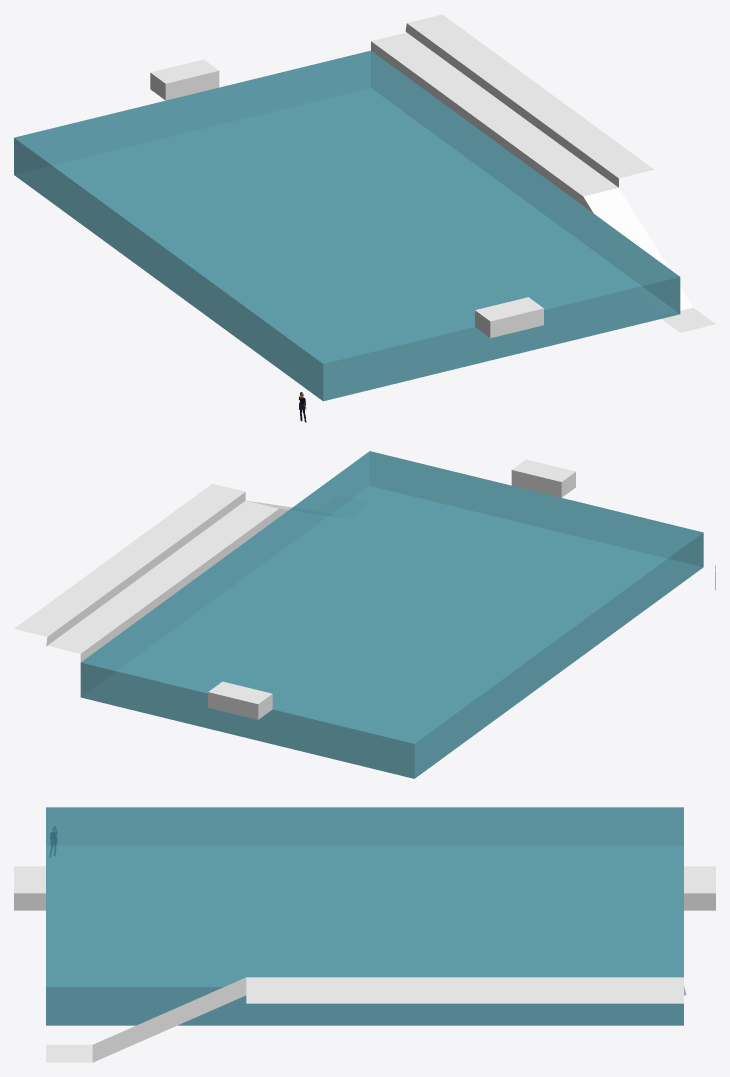
The picture shows the model from 3 angles, top to bottom: view 1: azimuth 30°, elevation 25°; view 2: azimuth 150°, elevation 25°; view 3: azimuth 270°, elevation 25°; orthographic projection. The views are drawn at different scales.
Visible parts, largest first — view 1: Mesh3 Group3 Model, Mesh5 Model, Mesh2 Group2 Model, Mesh1 Group1 Model; view 2: Mesh3 Group3 Model, Mesh5 Model, Mesh1 Group1 Model, Mesh2 Group2 Model; view 3: Mesh3 Group3 Model, Mesh5 Model, Mesh1 Group1 Model, Mesh2 Group2 Model.
Boxes of the visible parts, x1,y1,x2,y2 form: Mesh3 Group3 Model: (14,50,680,401); Mesh5 Model: (371,14,715,332); Mesh2 Group2 Model: (150,59,219,100); Mesh1 Group1 Model: (475,297,543,338); Mesh3 Group3 Model: (80,451,703,778); Mesh5 Model: (14,483,367,662); Mesh1 Group1 Model: (511,459,575,497); Mesh2 Group2 Model: (208,681,272,719); Mesh3 Group3 Model: (46,807,683,1025); Mesh5 Model: (46,977,686,1062); Mesh1 Group1 Model: (14,866,45,910); Mesh2 Group2 Model: (684,866,715,910).
Size of the model in its own units: 25.05 by 4.01 by 33.
